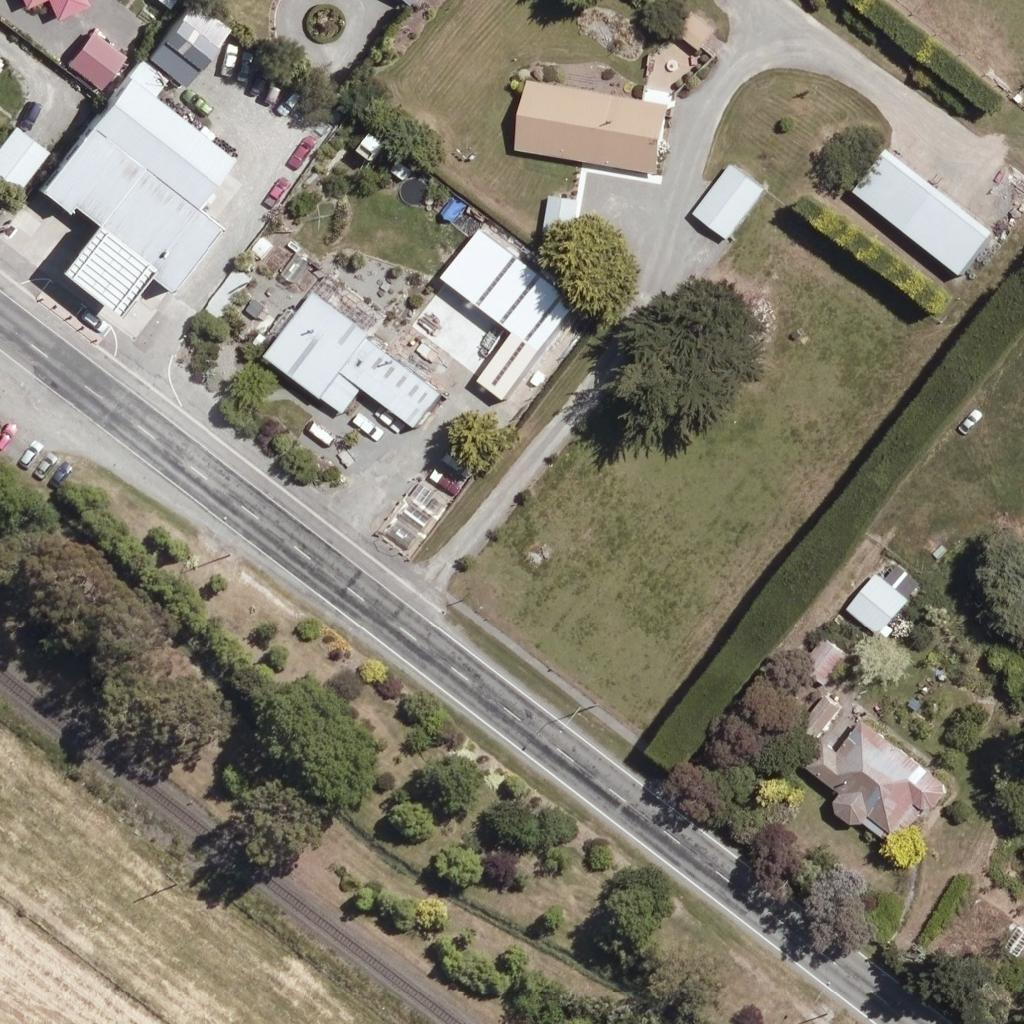car: (213, 38, 247, 72), (228, 45, 262, 79), (243, 61, 277, 95), (257, 71, 291, 105), (277, 81, 311, 115), (179, 83, 213, 117), (14, 96, 48, 130), (284, 132, 318, 166), (260, 170, 294, 204), (370, 401, 404, 435), (950, 404, 984, 438), (350, 410, 384, 444), (10, 436, 44, 470), (26, 446, 60, 480), (439, 447, 473, 481), (40, 456, 74, 490), (428, 465, 462, 499)
